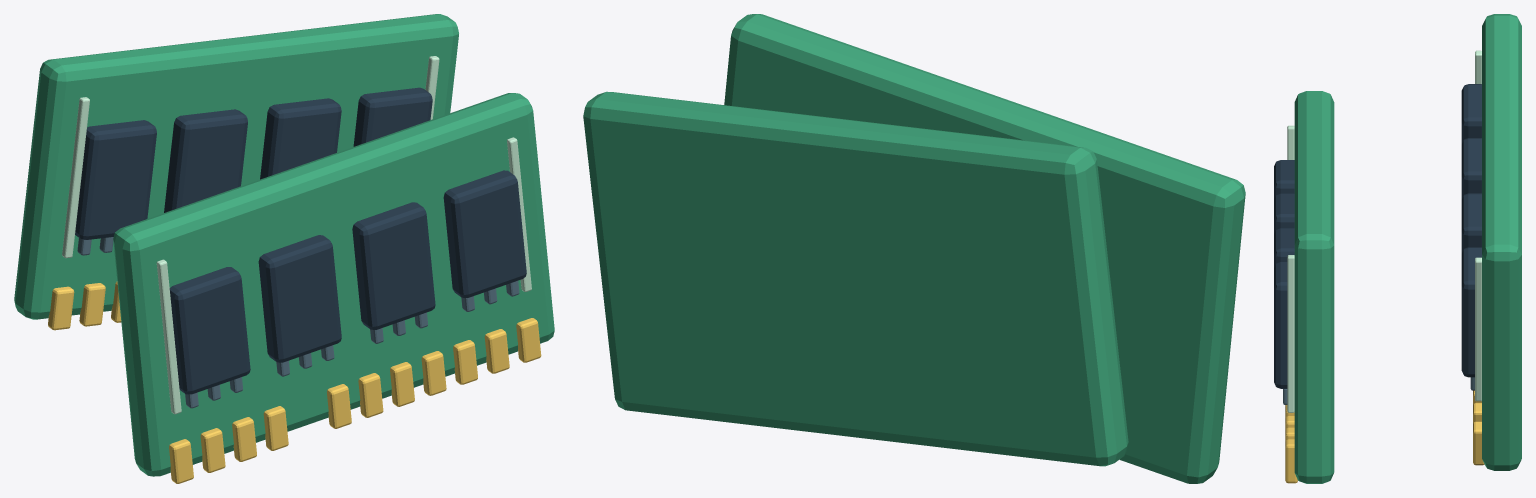
The model's file is ram_module_item.glb.
3 views of the same model, side by side, from view 1: azimuth 30°, elevation 25°; view 2: azimuth 150°, elevation 25°; view 3: azimuth 270°, elevation 25° (orthographic). The views are drawn at different scales.
Parts seen in each view (by area): view 1: RAM green circuit board, RAM green circuit board.001, Memory chip.002, Memory chip.003, Memory chip.001, Memory chip, Memory chip.004, Memory chip.005, Memory chip.006, Memory chip.007, Circuit trace.002, Circuit trace (+14 smaller); view 2: RAM green circuit board.001, RAM green circuit board; view 3: RAM green circuit board.001, RAM green circuit board, Memory chip.007, Memory chip.003, Circuit trace.001, Memory chip.005, Memory chip.006, Memory chip.004, Circuit trace.003, Memory chip.001, Memory chip, Memory chip.002 (+3 smaller).
Boxes of the visible parts, x1,y1,x2,y2 form: RAM green circuit board: (113,93,554,476); RAM green circuit board.001: (14,14,458,319); Memory chip.002: (352,202,435,329); Memory chip.003: (443,170,526,297); Memory chip.001: (258,235,341,362); Memory chip: (169,267,250,394); Memory chip.004: (75,120,156,239); Memory chip.005: (164,109,247,212); Memory chip.006: (260,98,341,179); Memory chip.007: (353,87,432,146); Circuit trace.002: (62,97,89,258); Circuit trace: (156,259,181,414); RAM green circuit board.001: (583,91,1128,466); RAM green circuit board: (724,14,1245,483); RAM green circuit board.001: (1482,14,1521,470); RAM green circuit board: (1294,91,1334,483); Memory chip.007: (1461,247,1481,377); Memory chip.003: (1274,262,1287,388); Circuit trace.001: (1287,255,1294,412); Memory chip.005: (1461,138,1481,199); Memory chip.006: (1461,193,1481,253); Memory chip.004: (1461,84,1481,143); Circuit trace.003: (1475,257,1481,401); Memory chip.001: (1274,193,1294,233); Memory chip: (1274,160,1294,199); Memory chip.002: (1274,228,1294,267).
Size of the model in its own units: 0.8762 by 0.6604 by 0.449.
